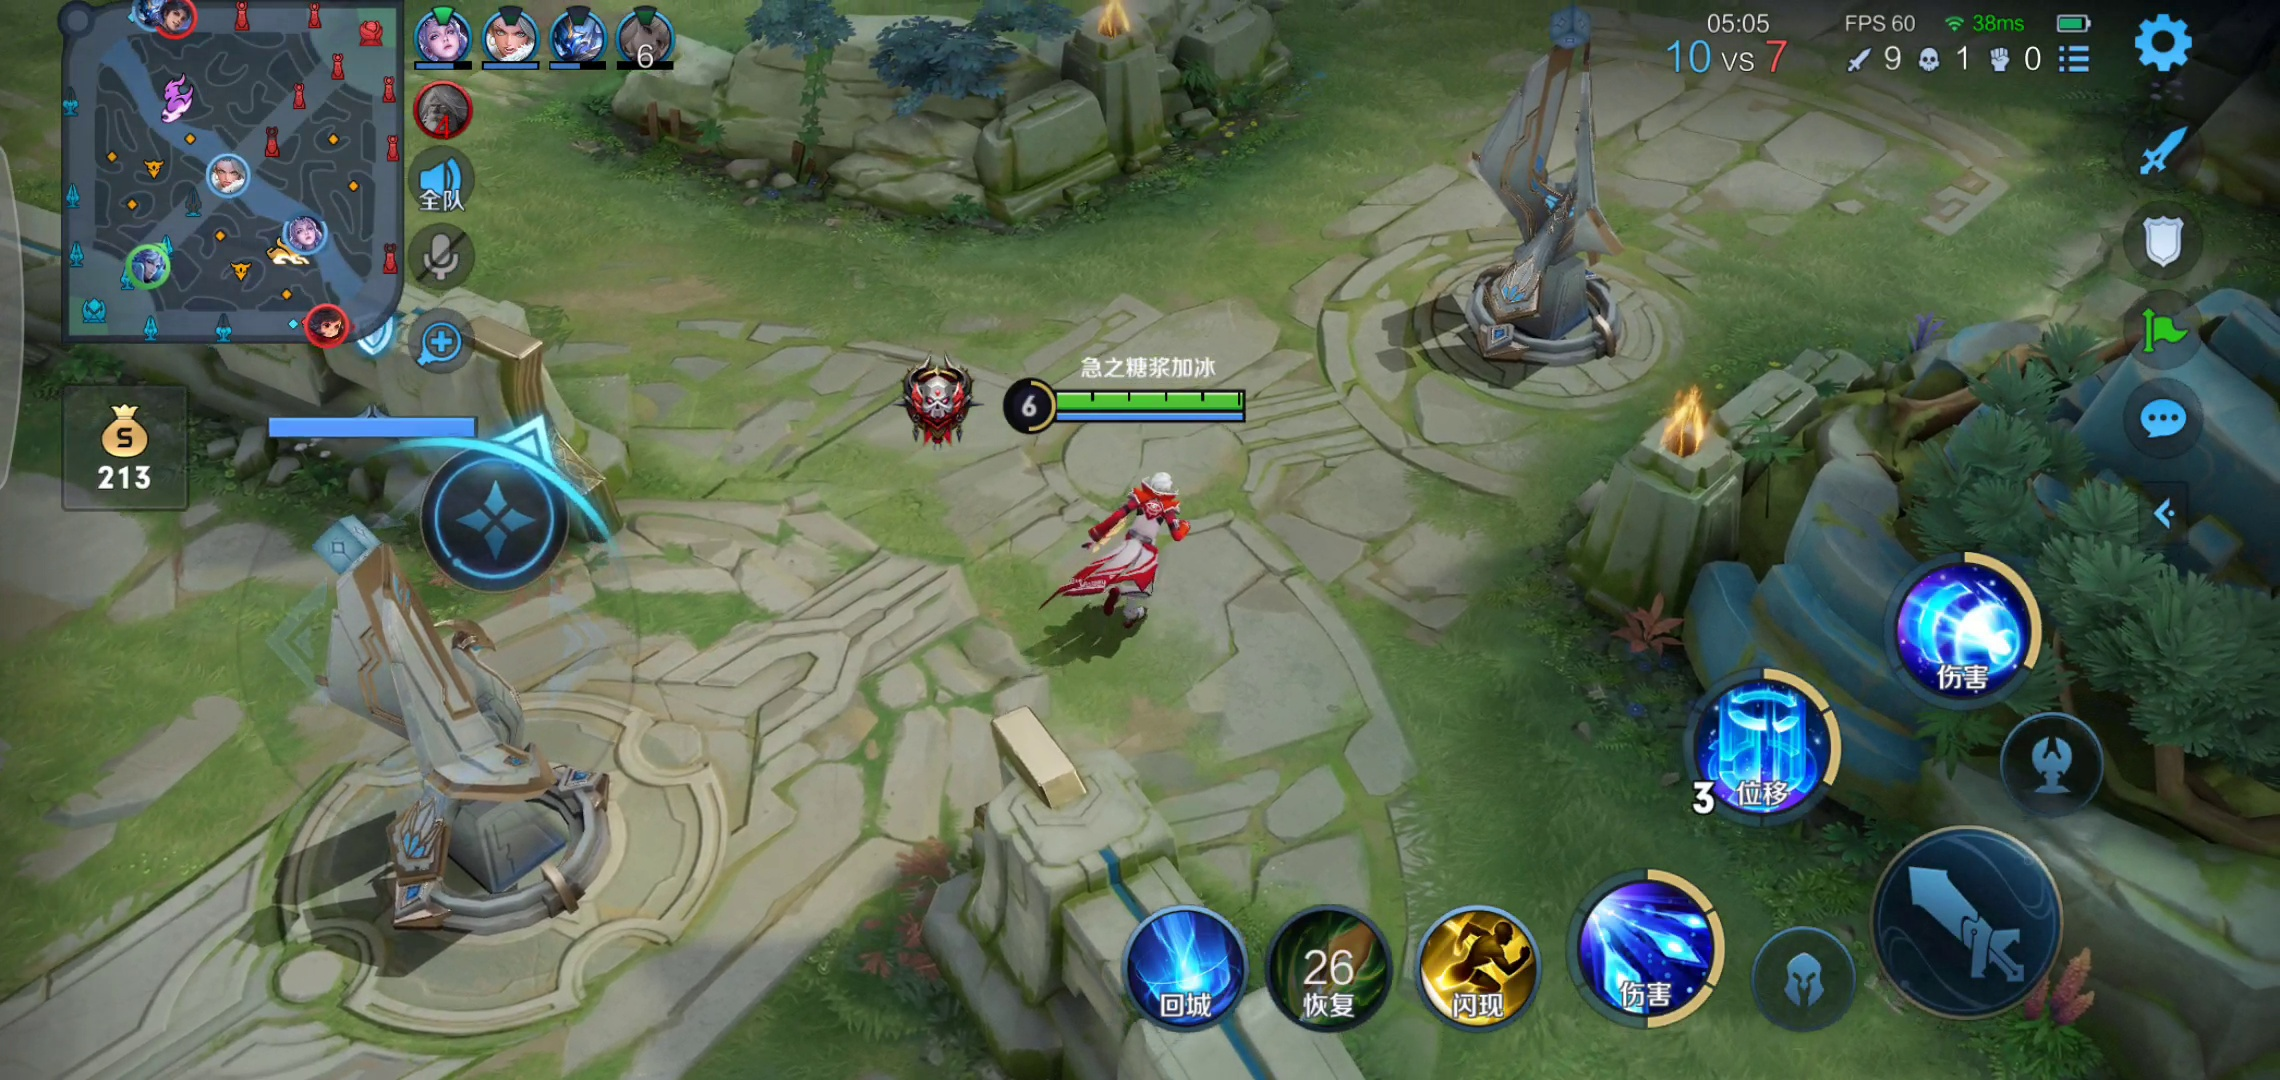hero: (1034, 455, 1219, 640)
tower: (284, 529, 635, 952), (1418, 15, 1669, 398)
